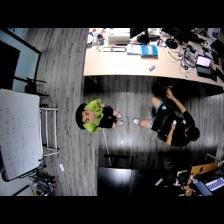normal: (138, 91, 199, 147), (76, 99, 123, 133)
